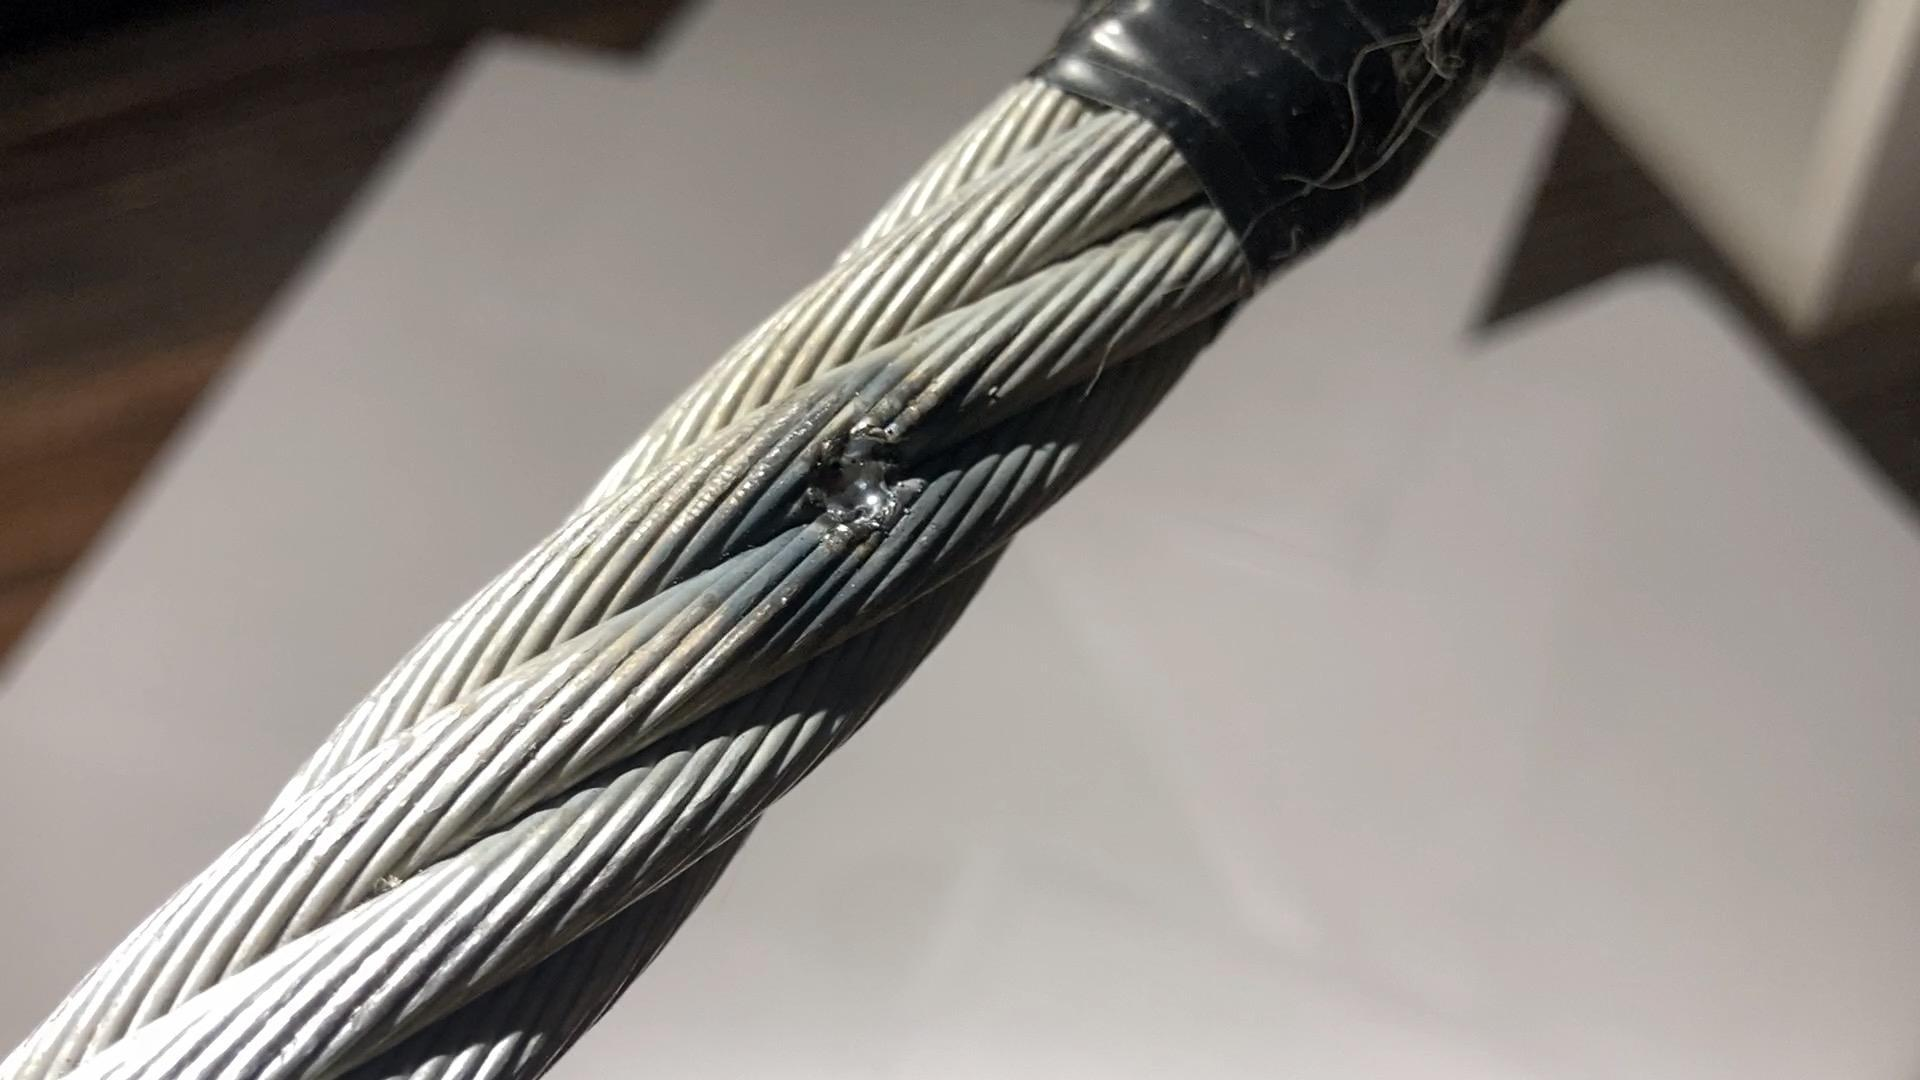thunderbolt: (748, 430, 940, 541)
